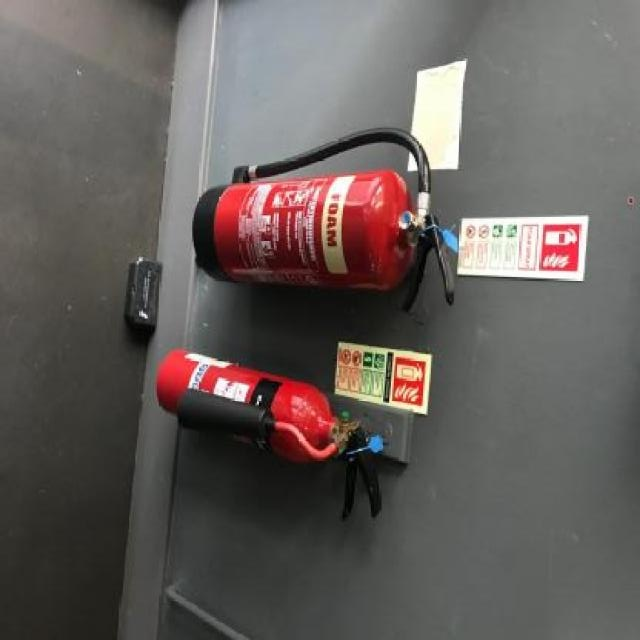fire extinguisher: (189, 129, 455, 314), (156, 350, 382, 521)
